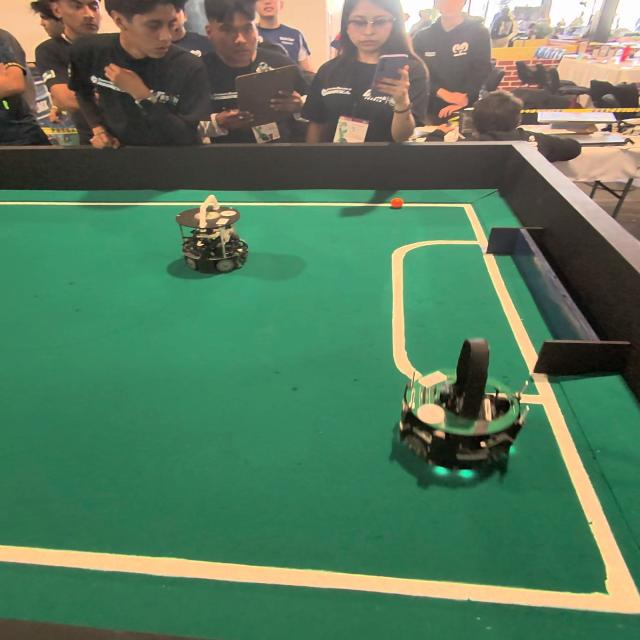Robot: (386, 338, 540, 503), (169, 196, 254, 278)
pelota: (387, 195, 406, 215)
